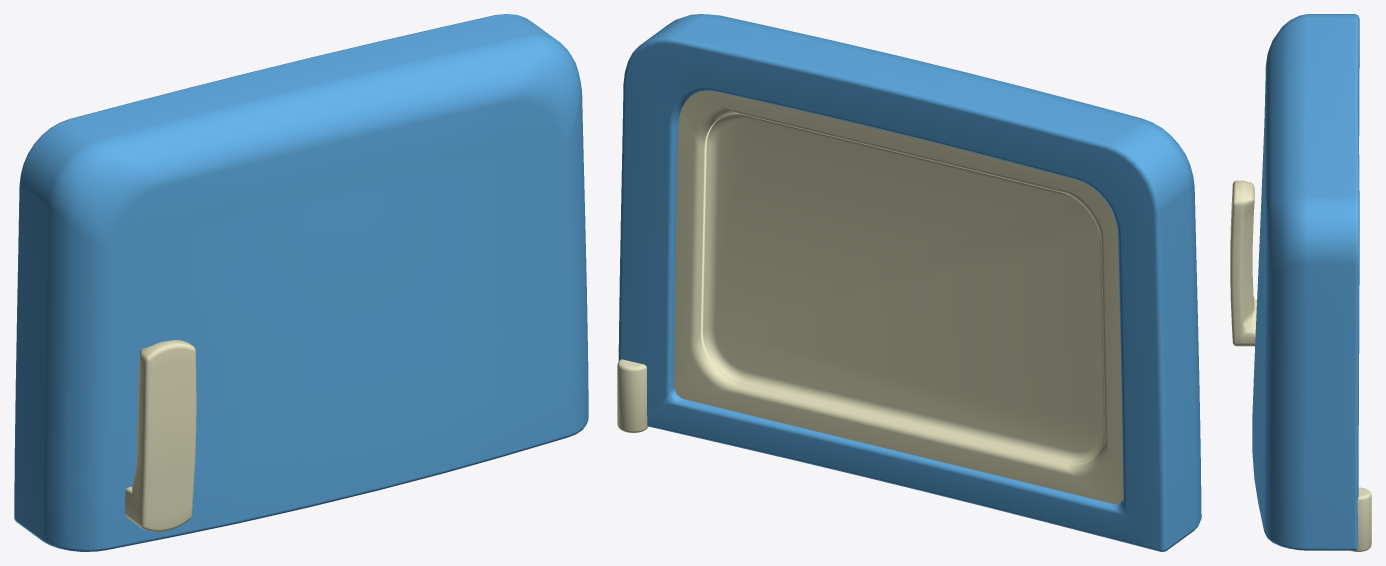
Rendered from SM_Fridge_01_Door_Top.fbx.
3 renders of one model, left to right at view 1: azimuth 30°, elevation 25°; view 2: azimuth 150°, elevation 25°; view 3: azimuth 270°, elevation 25°, orthographic. The views are drawn at different scales.
Visible parts, largest first — view 1: Cube.033, Cube.035; view 2: Cube.043, Cube.033, Cylinder.007; view 3: Cube.033, Cube.035, Cylinder.007.
Part boxes in pixels (x1,y1,x2,y2): Cube.033: (14,14,588,551); Cube.035: (125,340,196,531); Cube.043: (674,91,1123,503); Cube.033: (618,14,1201,551); Cylinder.007: (617,359,647,432); Cube.033: (1252,14,1359,550); Cube.035: (1230,180,1256,346); Cylinder.007: (1351,487,1371,551).
Size of the model in its own units: 121 by 84.42 by 32.04.
